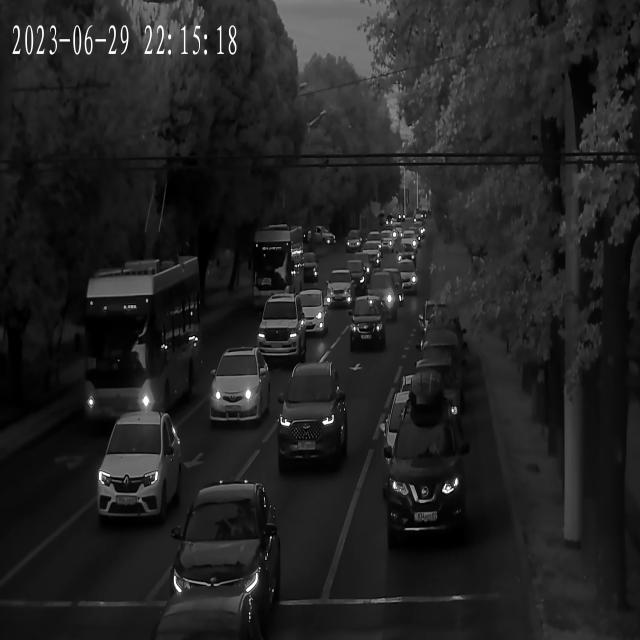Bus: (80, 256, 205, 437), (256, 226, 306, 307)
Car: (172, 485, 280, 611), (391, 384, 464, 550), (99, 413, 182, 531), (278, 359, 348, 468), (161, 591, 268, 640), (208, 348, 266, 432), (408, 353, 466, 429), (256, 290, 306, 364), (419, 319, 463, 381), (418, 295, 461, 348), (294, 286, 332, 336), (352, 300, 386, 354), (368, 275, 402, 317), (328, 270, 356, 313), (398, 261, 418, 295), (347, 260, 368, 292), (360, 236, 382, 266), (298, 254, 319, 282), (402, 228, 419, 254), (346, 230, 362, 253), (380, 230, 393, 251)
